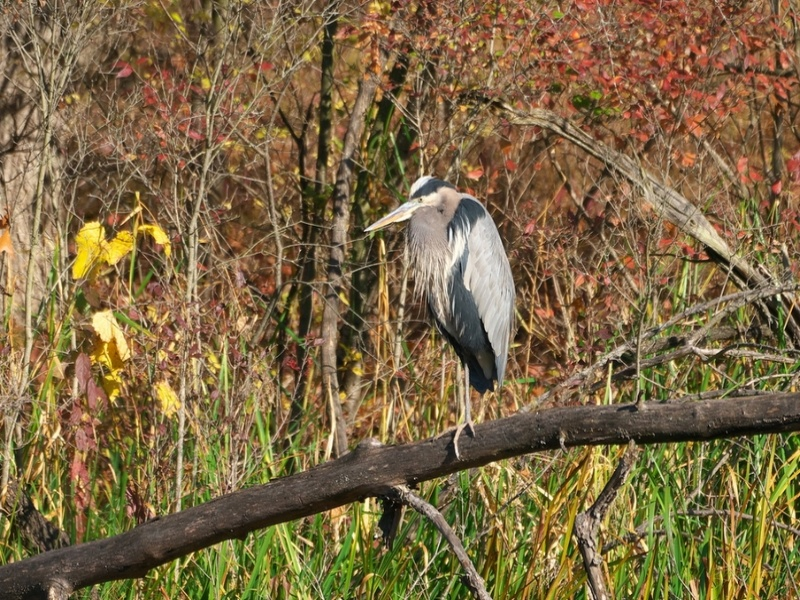heron: (363, 175, 516, 456)
